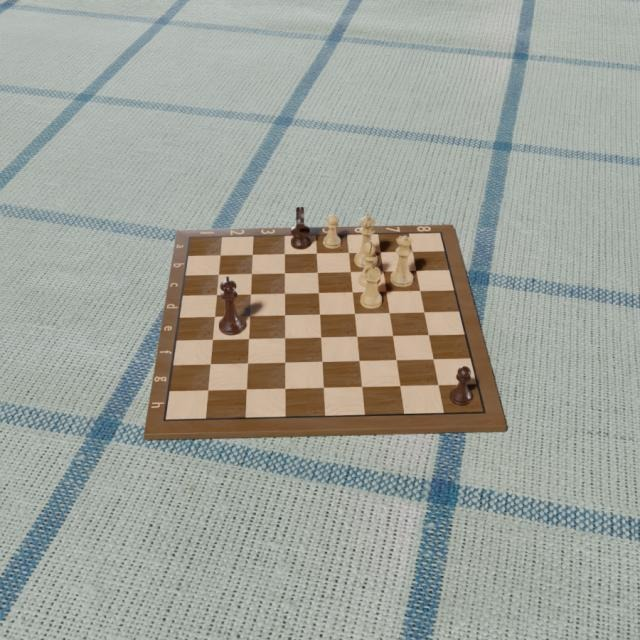black-king: (216, 274, 247, 336)
black-knight: (290, 204, 312, 252)
black-pawn: (448, 365, 476, 407)
white-bishop: (356, 240, 382, 288)
white-king: (354, 210, 377, 269)
white-pawn: (322, 213, 342, 251)
white-queen: (389, 233, 414, 289)
white-rook: (358, 261, 383, 311)
